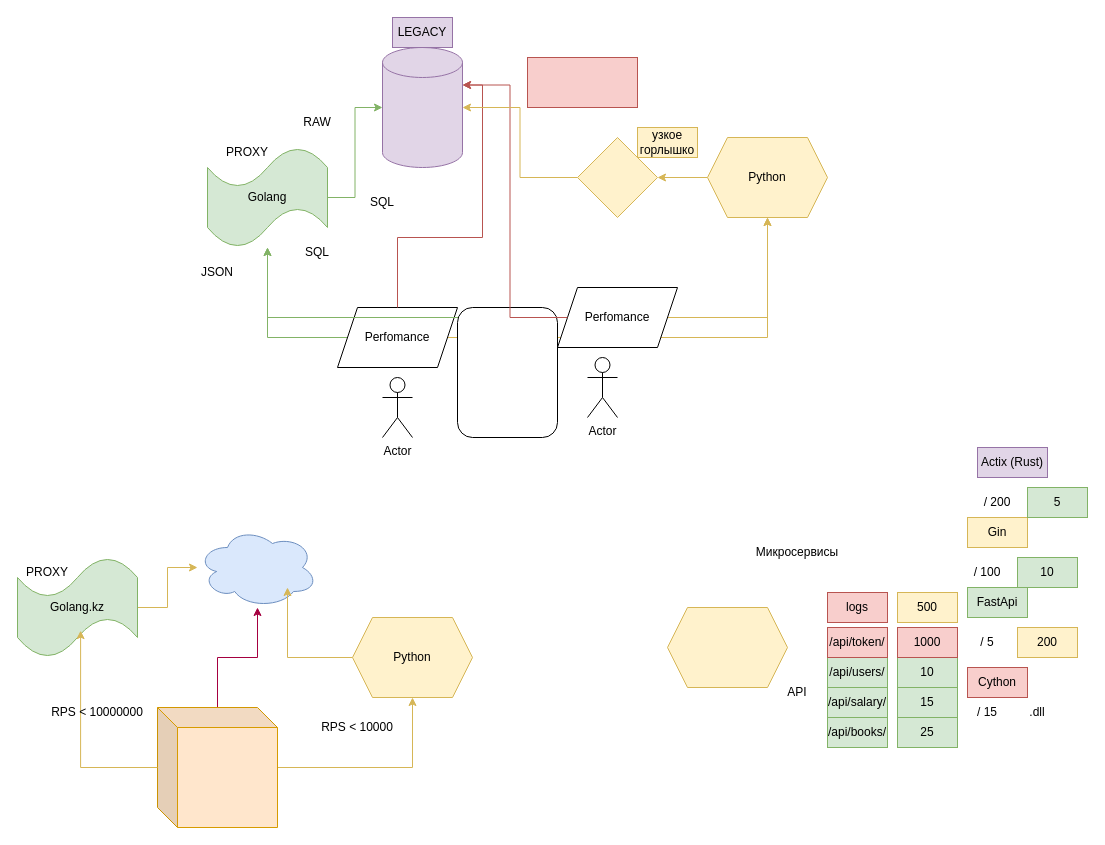
Some shapes in this 1105 by 845 pixel diagram are drawn without their labels. The shapes that lost their labels are listed below. From the top down, each one's centre as x and y in pixels, then its label:
At (582,82): "БАЗУ НАРУЖУ ОТКРЫВАТЬ НЕЛЬЗЯ".
At (422,107): "Oracle 11g".
At (617,177): "JAVA client".
At (507,372): "Qt PyQt C# (WPF/WinForms)".
At (257,567): "api.telegram.org".
At (727,647): "Django".
At (217,767): "ИБ".
